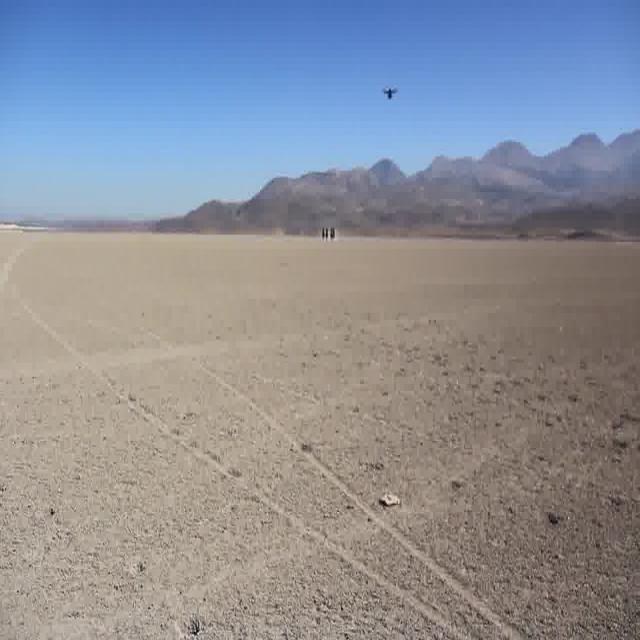drones: (376, 76, 403, 109)
